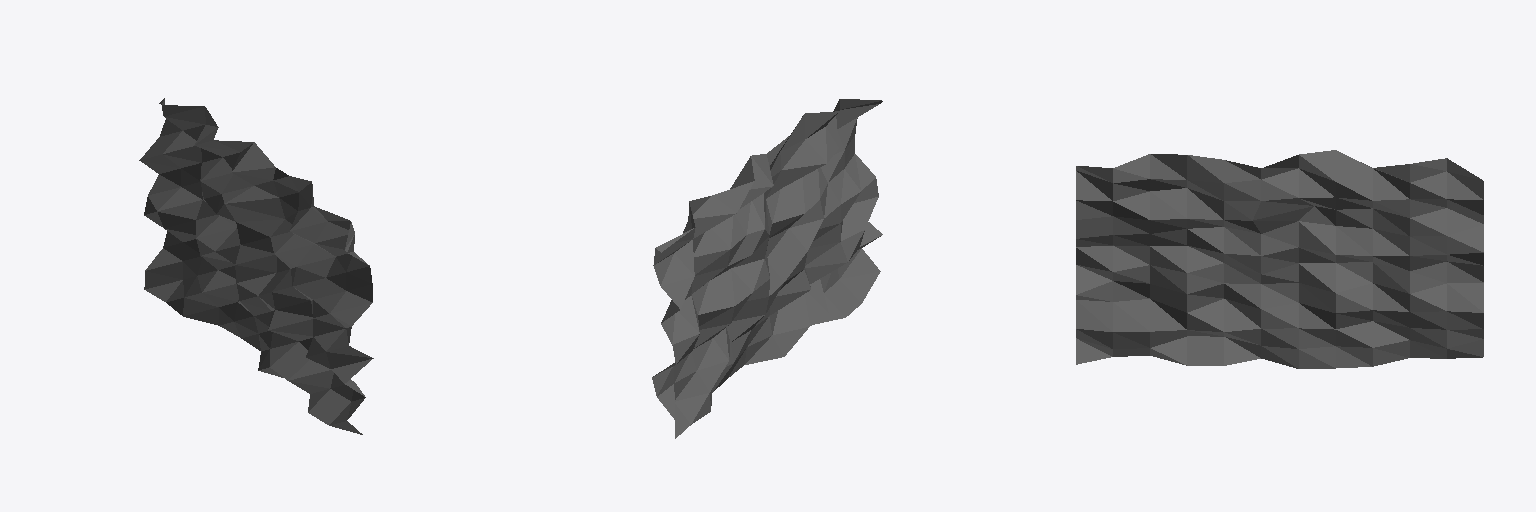
The model's file is connector1A(F121).obj.
The picture shows the model from 3 angles: view 1: azimuth 30°, elevation 25°; view 2: azimuth 150°, elevation 25°; view 3: azimuth 270°, elevation 25°; orthographic projection.
Visible parts, largest first — view 1: Plane; view 2: Plane; view 3: Plane.
Part boxes in pixels (x1,y1,x2,y2): Plane: (139,98,373,434); Plane: (652,99,882,438); Plane: (1076,150,1483,368).
Size of the model in its own units: 2.27 by 14.64 by 25.52.